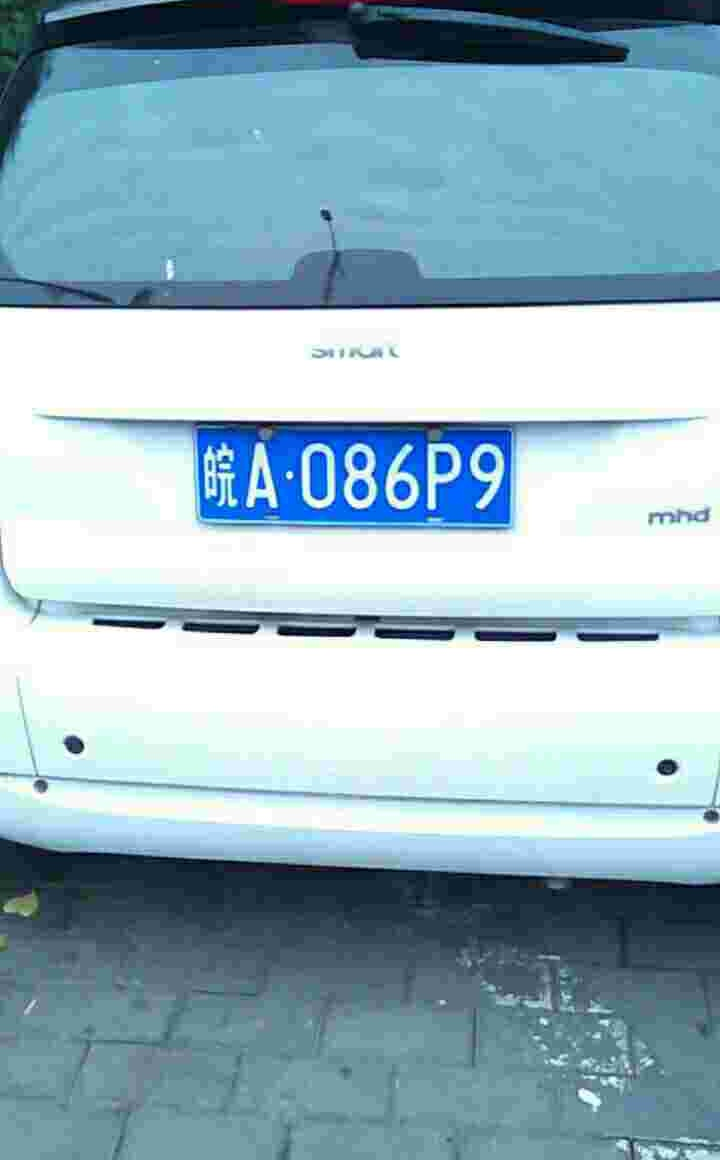license_plate: (185, 432, 523, 528)
